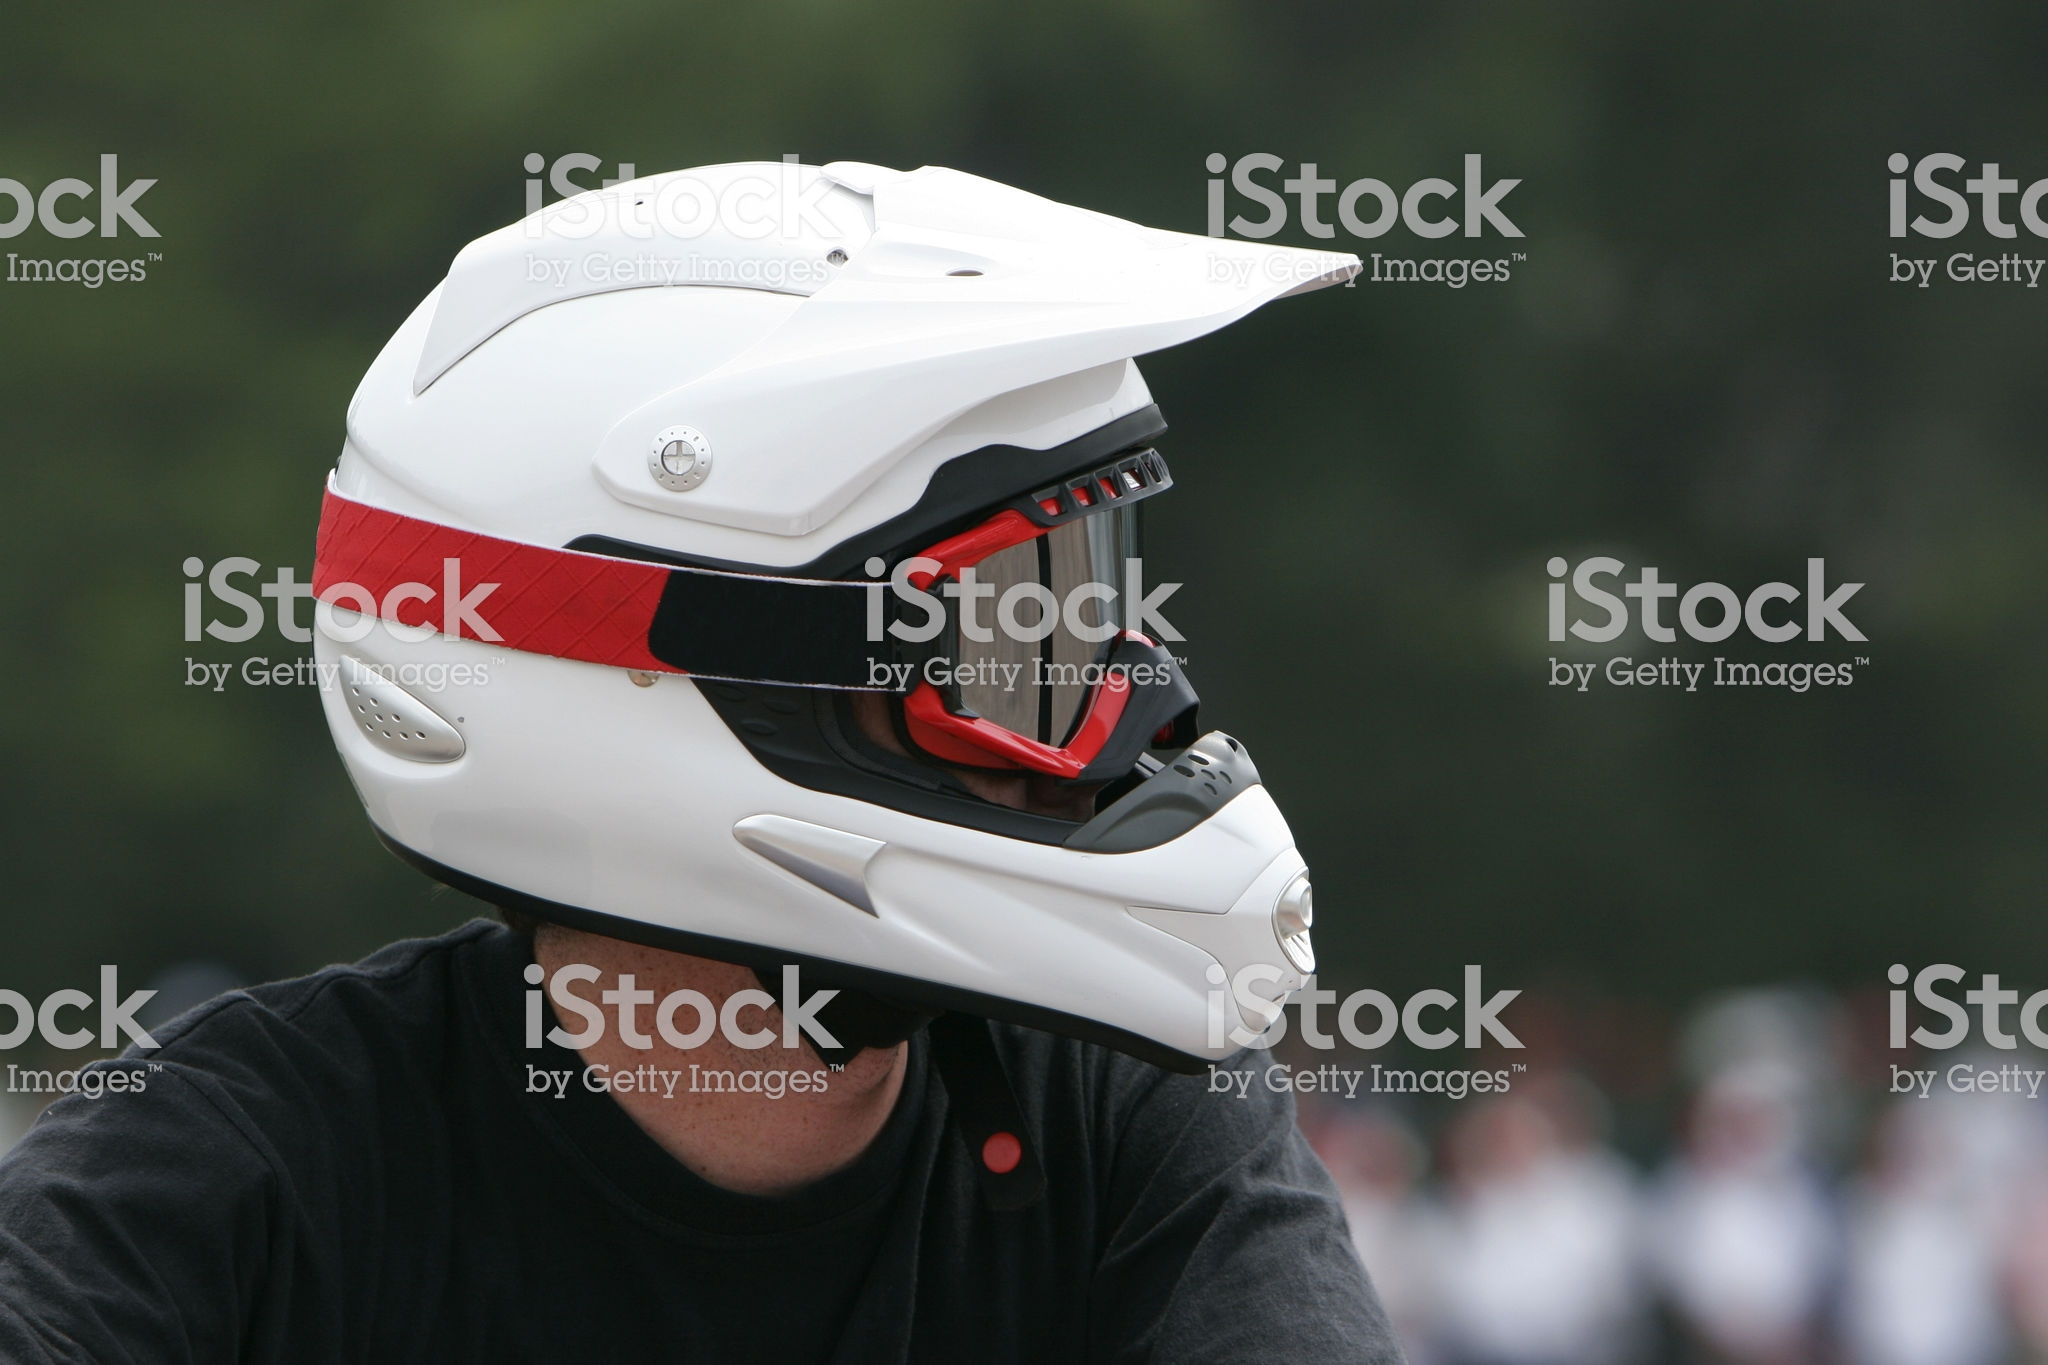helmet: (305, 142, 1421, 1050)
